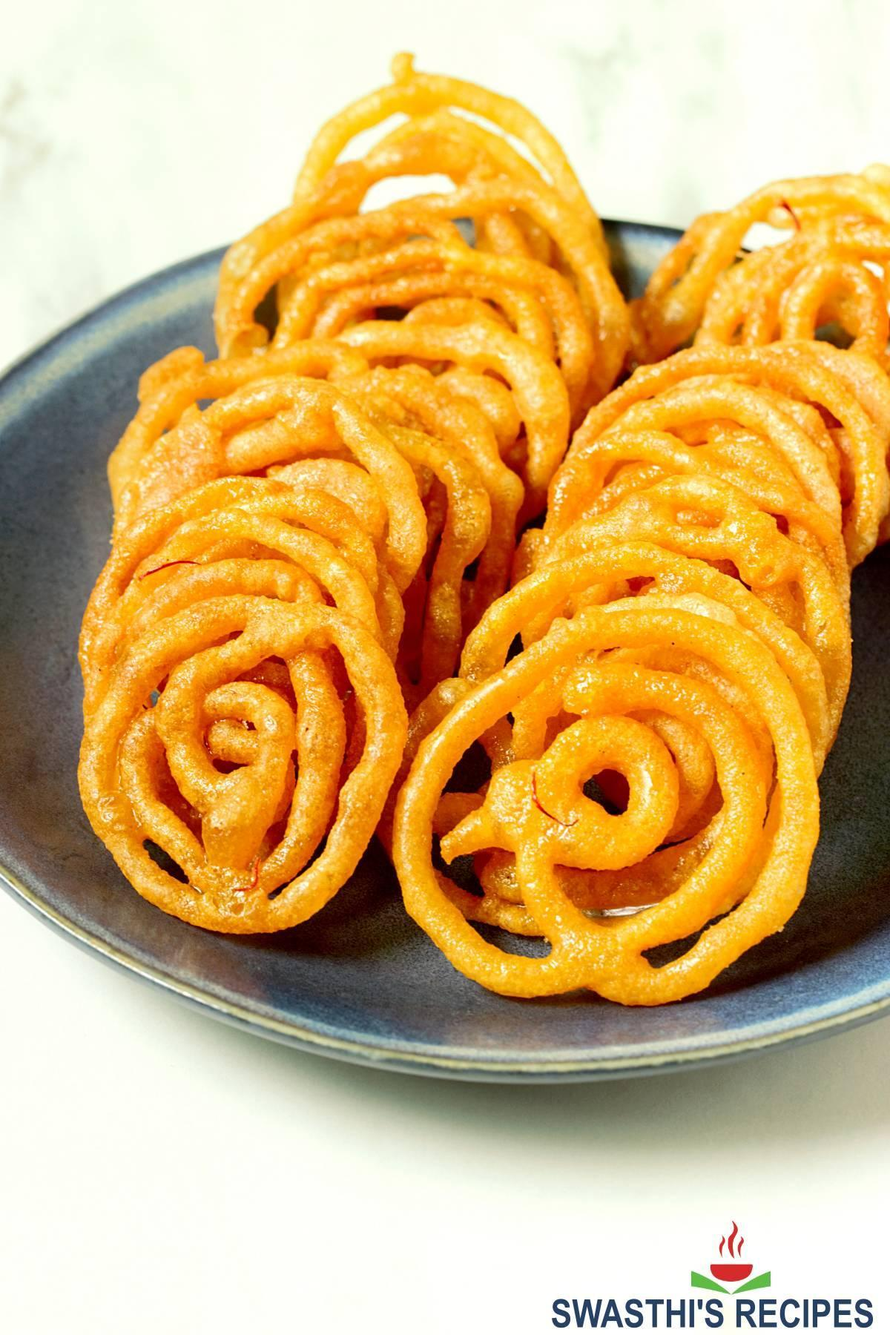jalebi: (115, 43, 868, 993)
